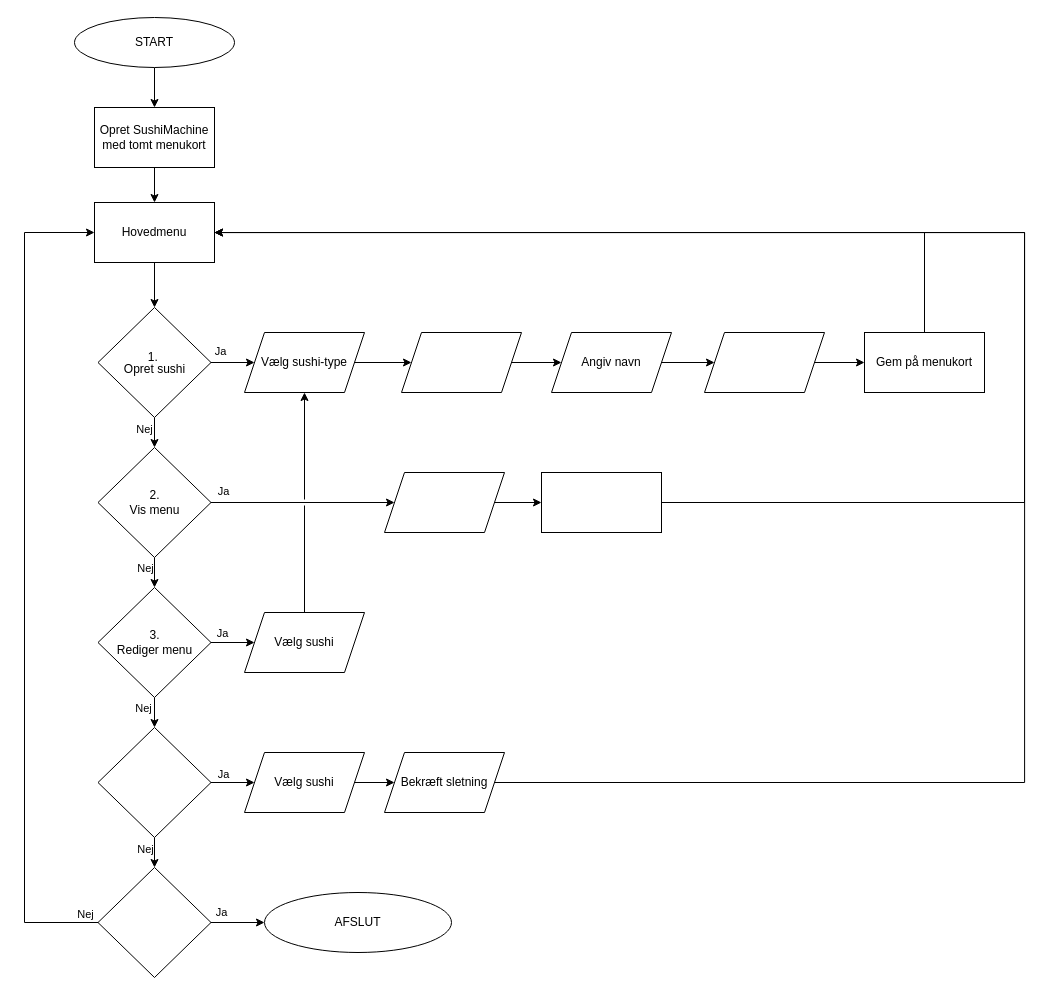
Some shapes in this 1051 by 995 pixel diagram are drawn without their labels. The centre of each missing label's shape, as x and y in pixels:
"0. Afslut" goes at pixel 154 922.
"3. Fjern sushi fra menu" goes at pixel 154 782.
"Angiv pris" goes at pixel 764 362.
"Vis alle sushi" goes at pixel 601 502.
"Vælg ingredienser" goes at pixel 461 362.
"Vælg sortering" goes at pixel 444 502.
